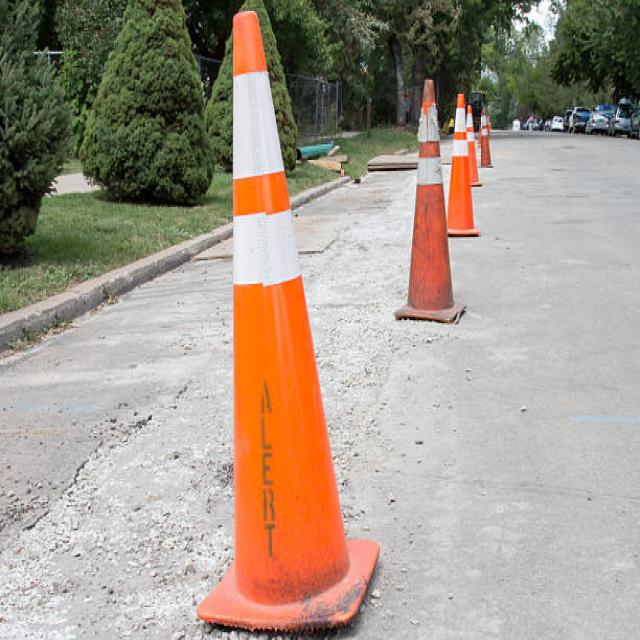Traffic Cone: (152, 3, 396, 640), (383, 49, 472, 343), (445, 78, 483, 258)
